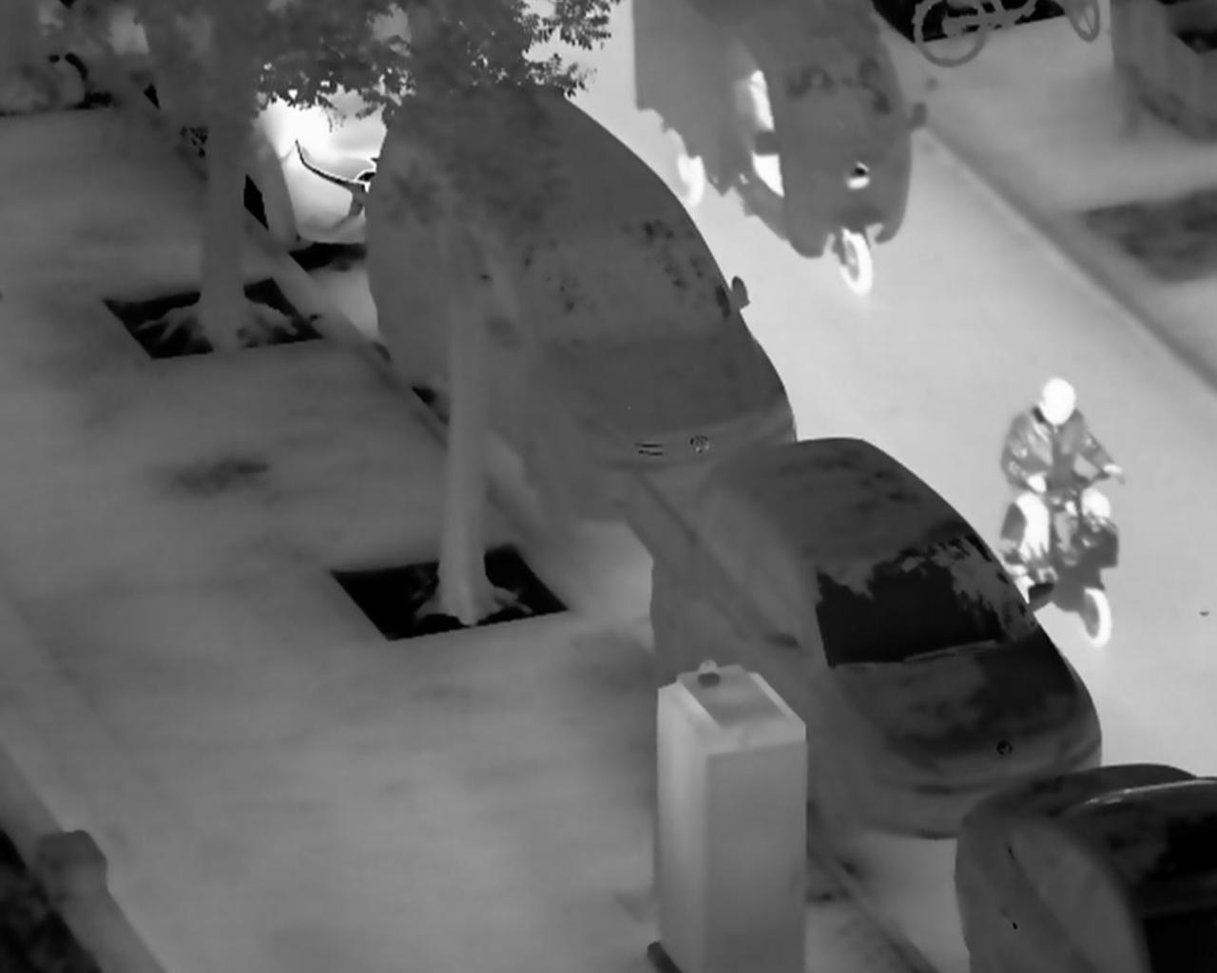person: (998, 377, 1118, 591)
